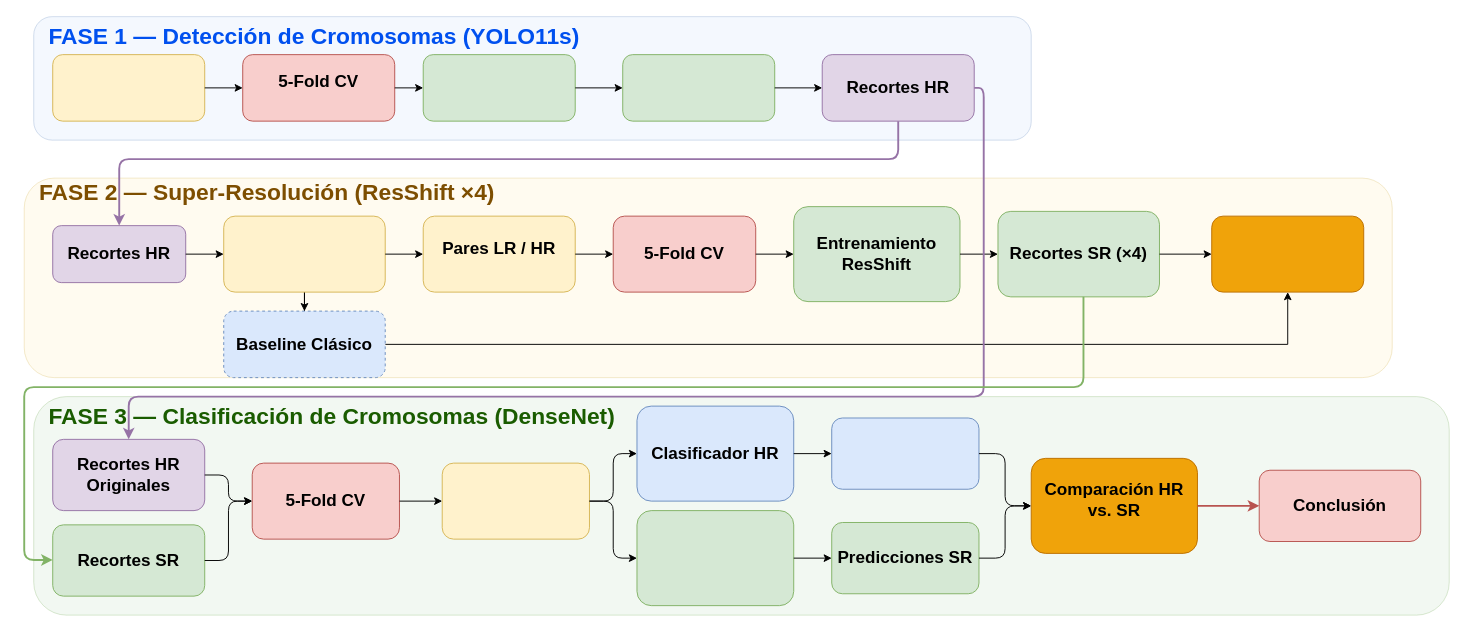
The diagram is 1466 pixels wide and 632 high, and some of its shapes have lost their labels. Here are the shapes that lost their labels. From the top down, the centre of each, then its label:
At (x=128, y=87): "Conjunto de Datos".
At (x=498, y=87): "Entrenamiento YOLO11s".
At (x=698, y=87): "Predicciones BBox".
At (x=304, y=253): "Degradación ×4 Bicúbica".
At (x=1287, y=253): "Métricas de Calidad (IQA)".
At (x=905, y=453): "Predicciones HR".
At (x=515, y=500): "Data Augmentation".
At (x=715, y=558): "Clasificadores SR".
